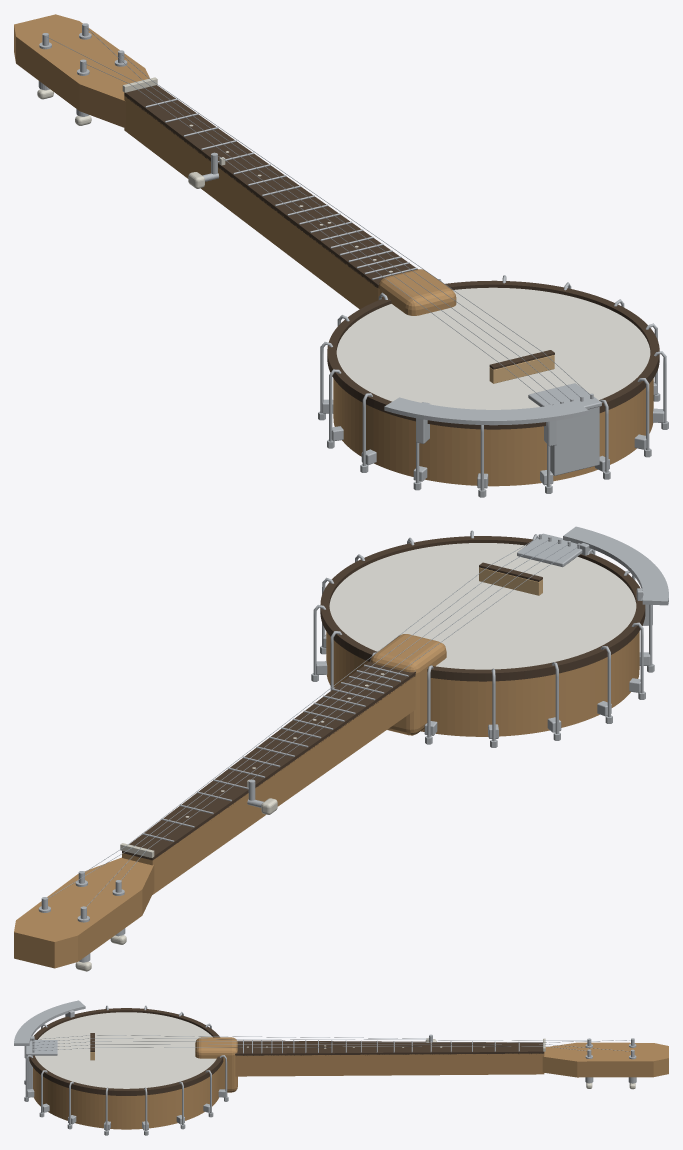
File: A-NEW-20261026-BANJO-001_LOD0_R3.glb
The picture shows the model from 3 angles, top to bottom: view 1: azimuth 30°, elevation 25°; view 2: azimuth 150°, elevation 25°; view 3: azimuth 270°, elevation 25°; orthographic projection. The views are drawn at different scales.
Visible parts, largest first — view 1: closed thin head membrane, open back wooden rim, plain tapered fingerboard, tapered maple neck, plain headstock, dark tension hoop, curved plain armrest, tailpiece rim attachment, thick neck heel, plain tailpiece plate, bridge wooden support; view 2: closed thin head membrane, open back wooden rim, plain tapered fingerboard, plain headstock, tapered maple neck, dark tension hoop, thick neck heel, curved plain armrest, plain tailpiece plate, bridge wooden support; view 3: closed thin head membrane, tapered maple neck, open back wooden rim, plain tapered fingerboard, plain headstock, dark tension hoop, thick neck heel, curved plain armrest, string 3, string 4, string 2, string 5 (+2 smaller).
Part boxes in pixels (x1,y1,x2,y2): closed thin head membrane: [336, 287, 650, 409]; open back wooden rim: [333, 378, 653, 486]; plain tapered fingerboard: [124, 85, 417, 287]; tapered maple neck: [124, 95, 378, 309]; plain headstock: [14, 14, 149, 128]; dark tension hoop: [327, 280, 659, 429]; curved plain armrest: [384, 397, 588, 425]; tailpiece rim attachment: [550, 407, 599, 475]; thick neck heel: [378, 269, 456, 315]; plain tailpiece plate: [528, 383, 601, 409]; bridge wooden support: [489, 355, 554, 383]; closed thin head membrane: [329, 543, 636, 669]; open back wooden rim: [326, 631, 639, 736]; plain tapered fingerboard: [122, 661, 415, 860]; plain headstock: [14, 857, 154, 968]; tapered maple neck: [122, 675, 415, 894]; dark tension hoop: [320, 536, 645, 681]; thick neck heel: [370, 634, 446, 735]; curved plain armrest: [563, 526, 668, 605]; plain tailpiece plate: [517, 533, 582, 567]; bridge wooden support: [479, 567, 542, 595]; closed thin head membrane: [35, 1012, 216, 1088]; tapered maple neck: [235, 1053, 544, 1076]; open back wooden rim: [33, 1067, 219, 1129]; plain tapered fingerboard: [235, 1040, 544, 1055]; plain headstock: [542, 1042, 668, 1077]; dark tension hoop: [29, 1008, 223, 1095]; thick neck heel: [195, 1037, 237, 1092]; curved plain armrest: [14, 1000, 85, 1045]; string 3: [35, 1040, 630, 1045]; string 4: [35, 1044, 630, 1051]; string 2: [36, 1038, 587, 1042]; string 5: [35, 1046, 586, 1051].
Bounding box in the file's own units: 0.3005 × 0.0833 × 0.9665.
